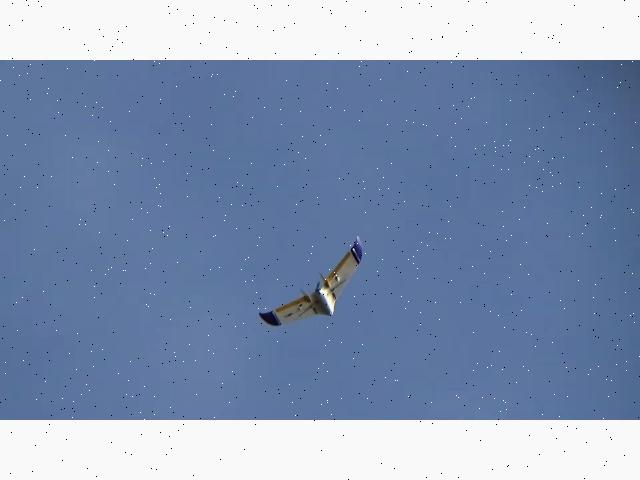Anti-Drone: (260, 236, 370, 326)
